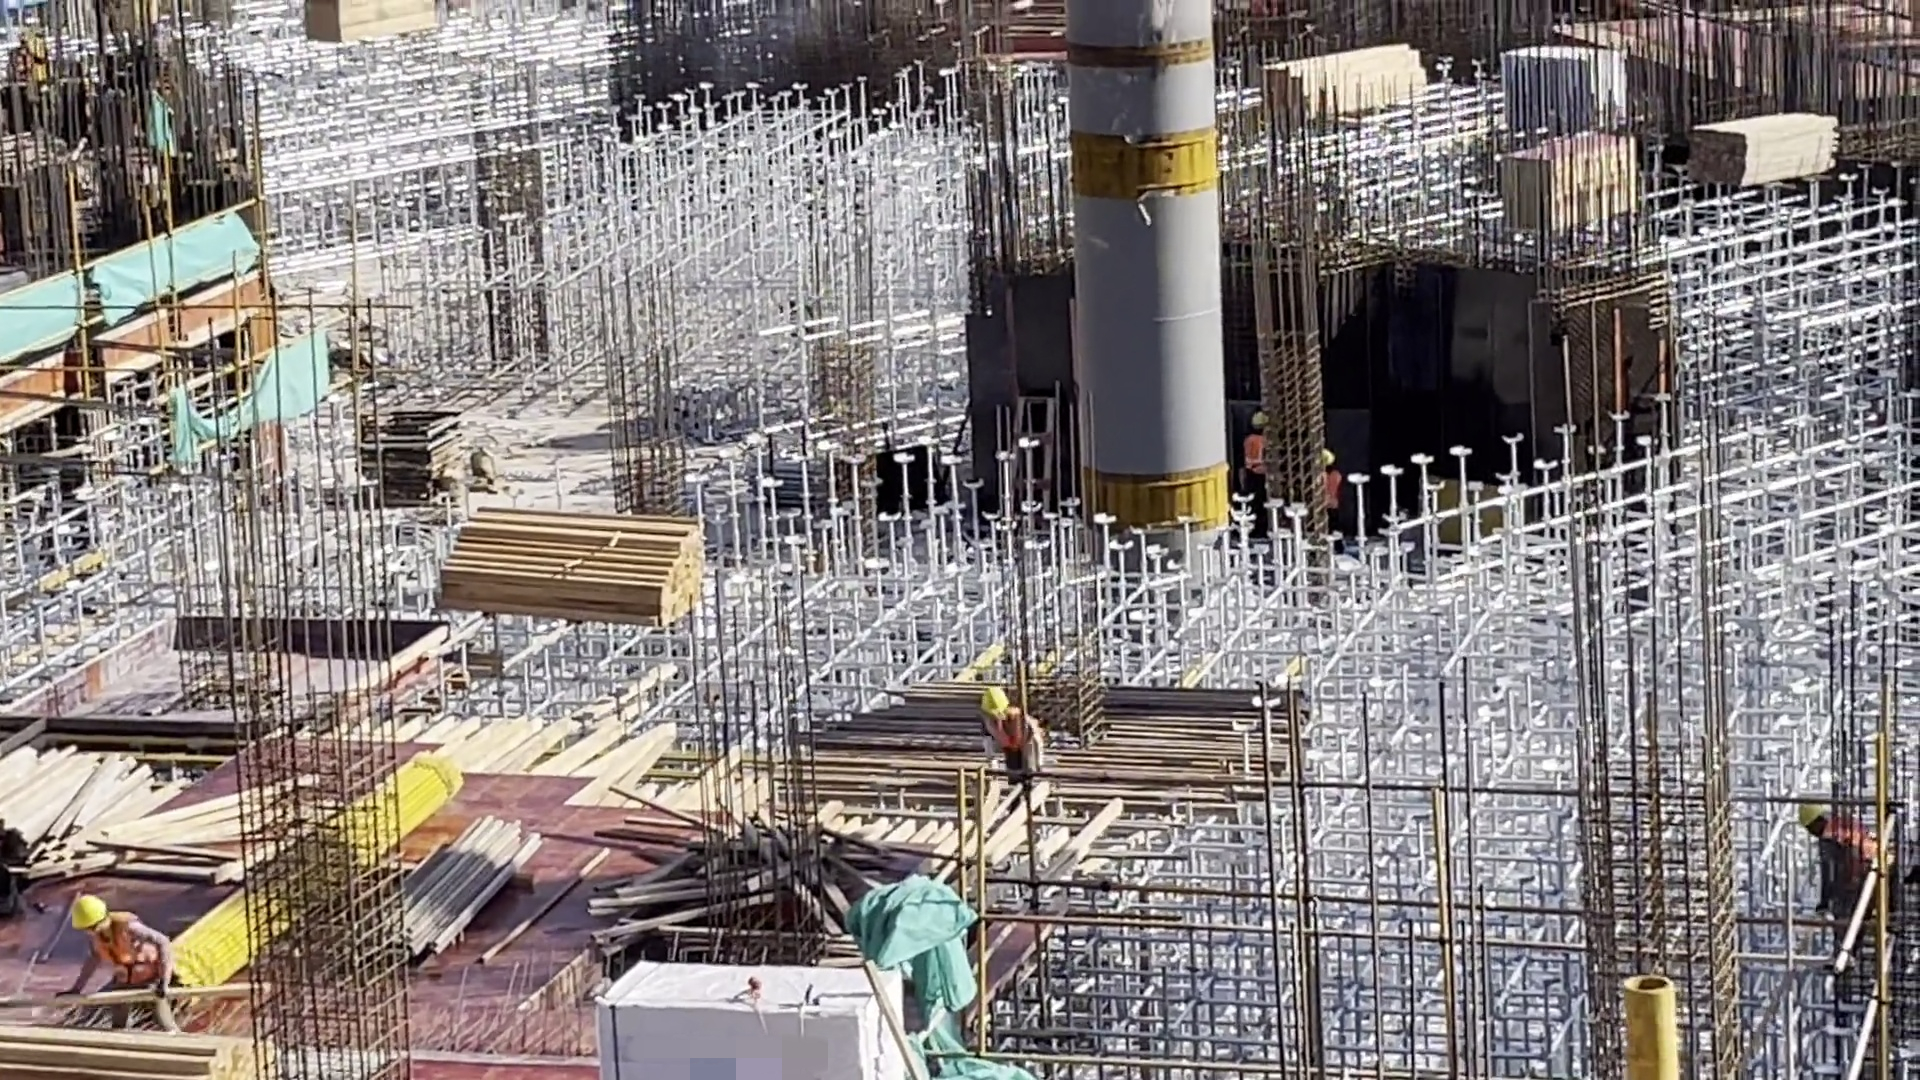board: (358, 406, 483, 509)
helmet: (67, 885, 112, 942), (979, 684, 1013, 722), (1312, 447, 1341, 474), (1250, 411, 1274, 437)
person: (54, 883, 190, 1045), (970, 680, 1052, 820), (1227, 405, 1286, 541), (1300, 437, 1361, 556)
vest: (92, 919, 157, 995), (986, 712, 1039, 760), (1319, 471, 1346, 512), (1240, 436, 1266, 476)
wood: (426, 503, 722, 627), (1, 748, 193, 873), (1, 998, 291, 1080), (1254, 41, 1443, 144), (1684, 101, 1856, 209)
